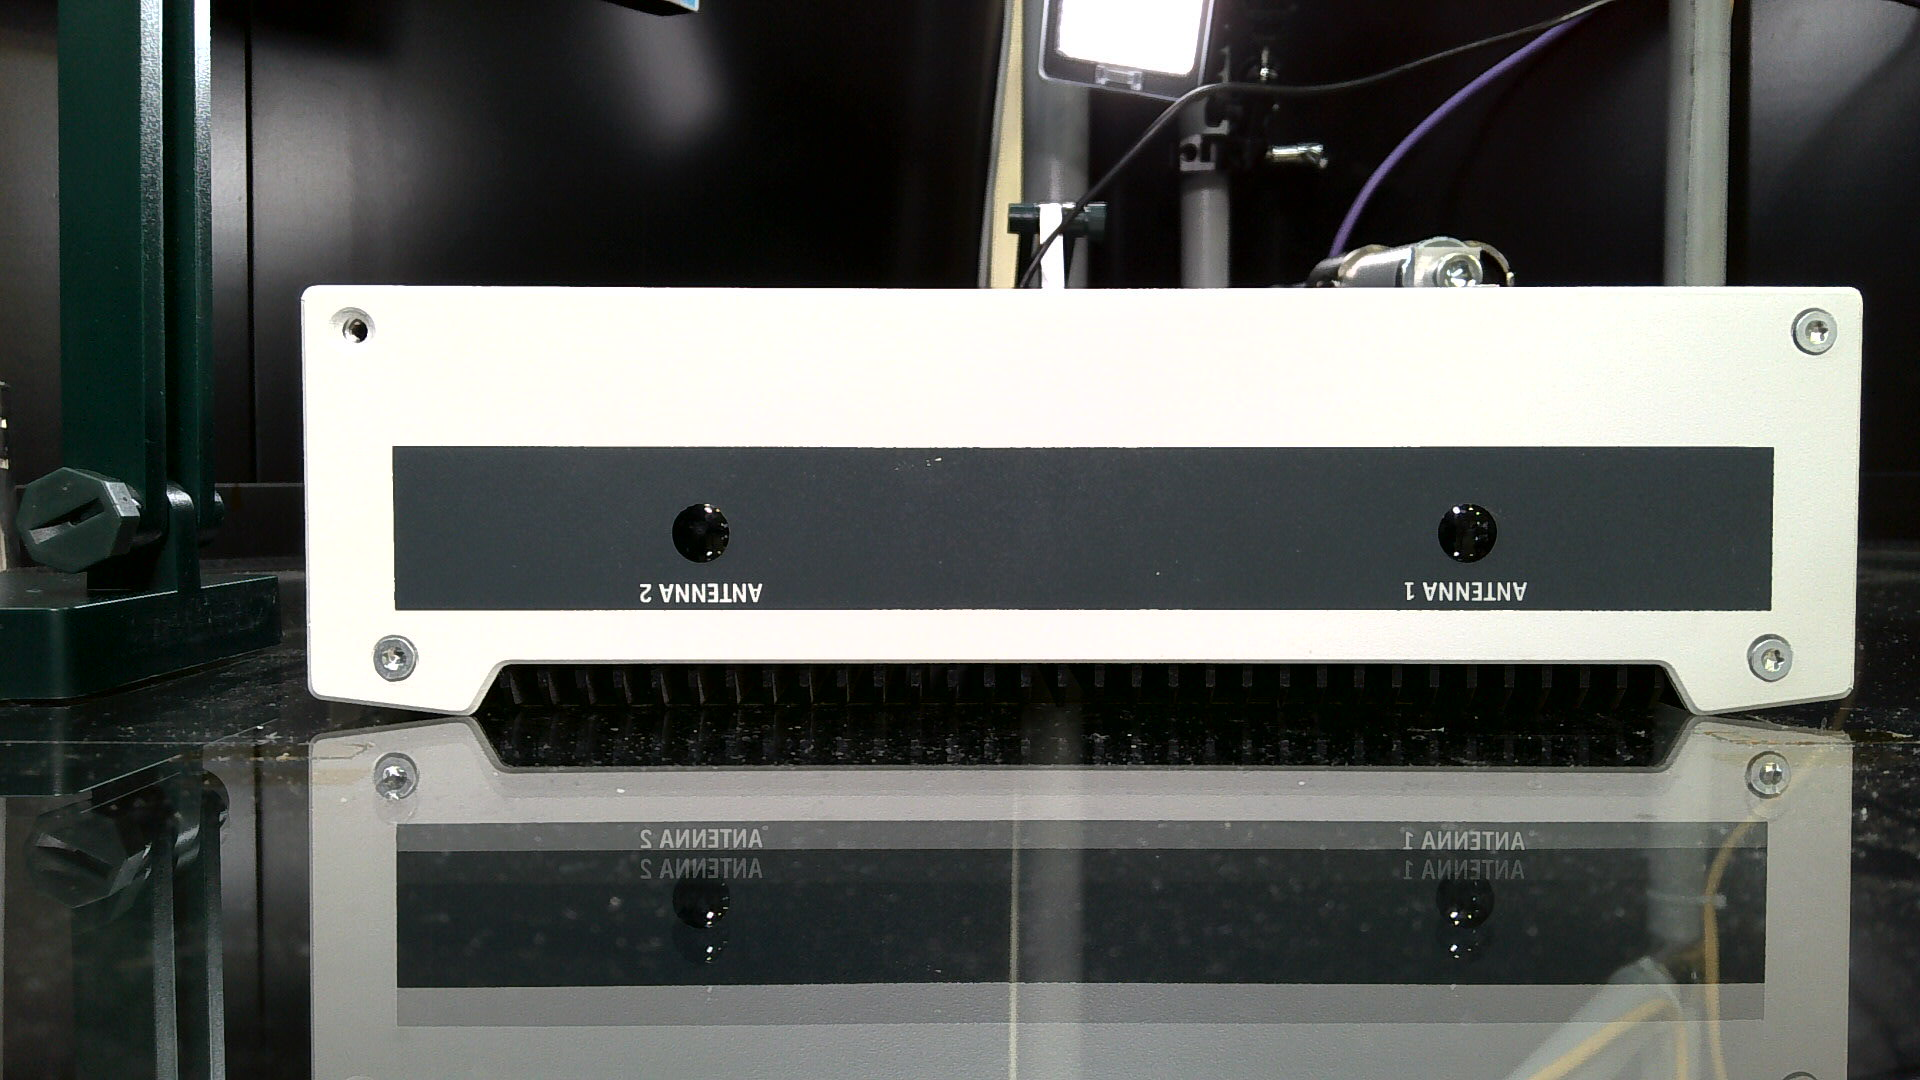CamBack: (260, 240, 1900, 717)
Loch: (320, 295, 392, 363)
Schraube_gespiegelt: (1738, 742, 1801, 829), (365, 746, 426, 833)
Schraube_halb: (1735, 624, 1804, 694), (1779, 299, 1846, 367), (363, 626, 429, 688)
